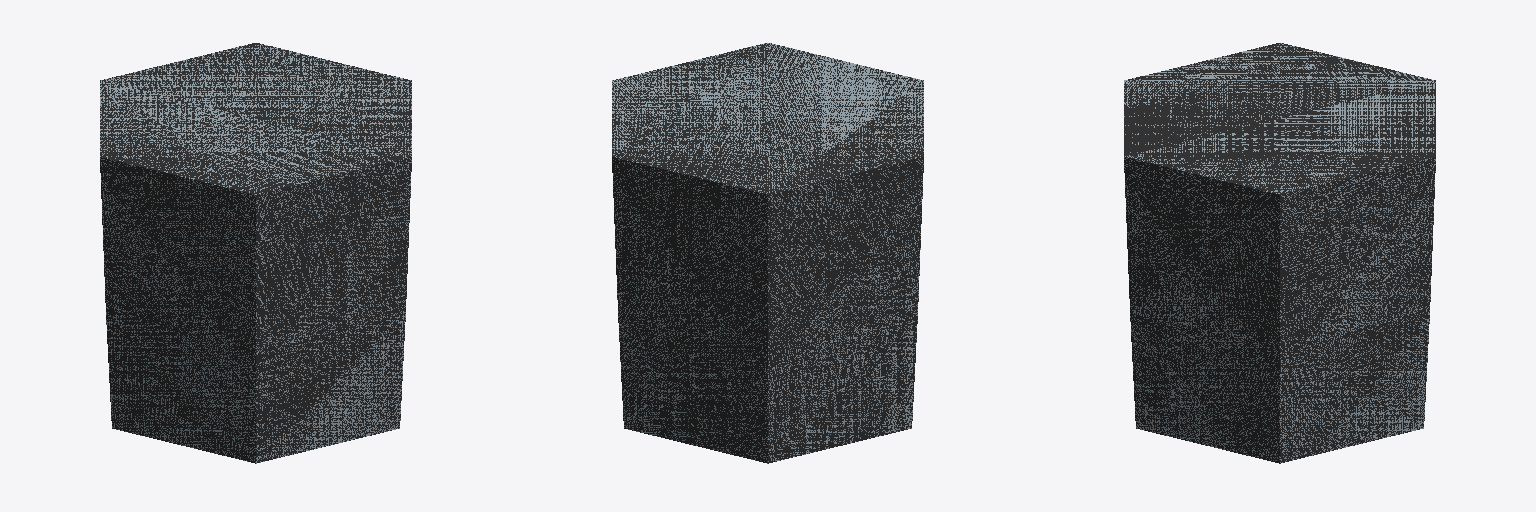
The model's file is TestTube_Normal_Stopper.obj.
3 views of the same model, side by side, from view 1: azimuth 30°, elevation 25°; view 2: azimuth 150°, elevation 25°; view 3: azimuth 270°, elevation 25° (orthographic).
Visible parts, largest first — view 1: Mesh1 Model; view 2: Mesh1 Model; view 3: Mesh1 Model.
Part boxes in pixels (bbox=[...]): Mesh1 Model: bbox=[100, 43, 411, 463]; Mesh1 Model: bbox=[612, 43, 923, 463]; Mesh1 Model: bbox=[1124, 43, 1435, 463].
Bounding box in the file's own units: 0.0416 × 0.035 × 0.0361.